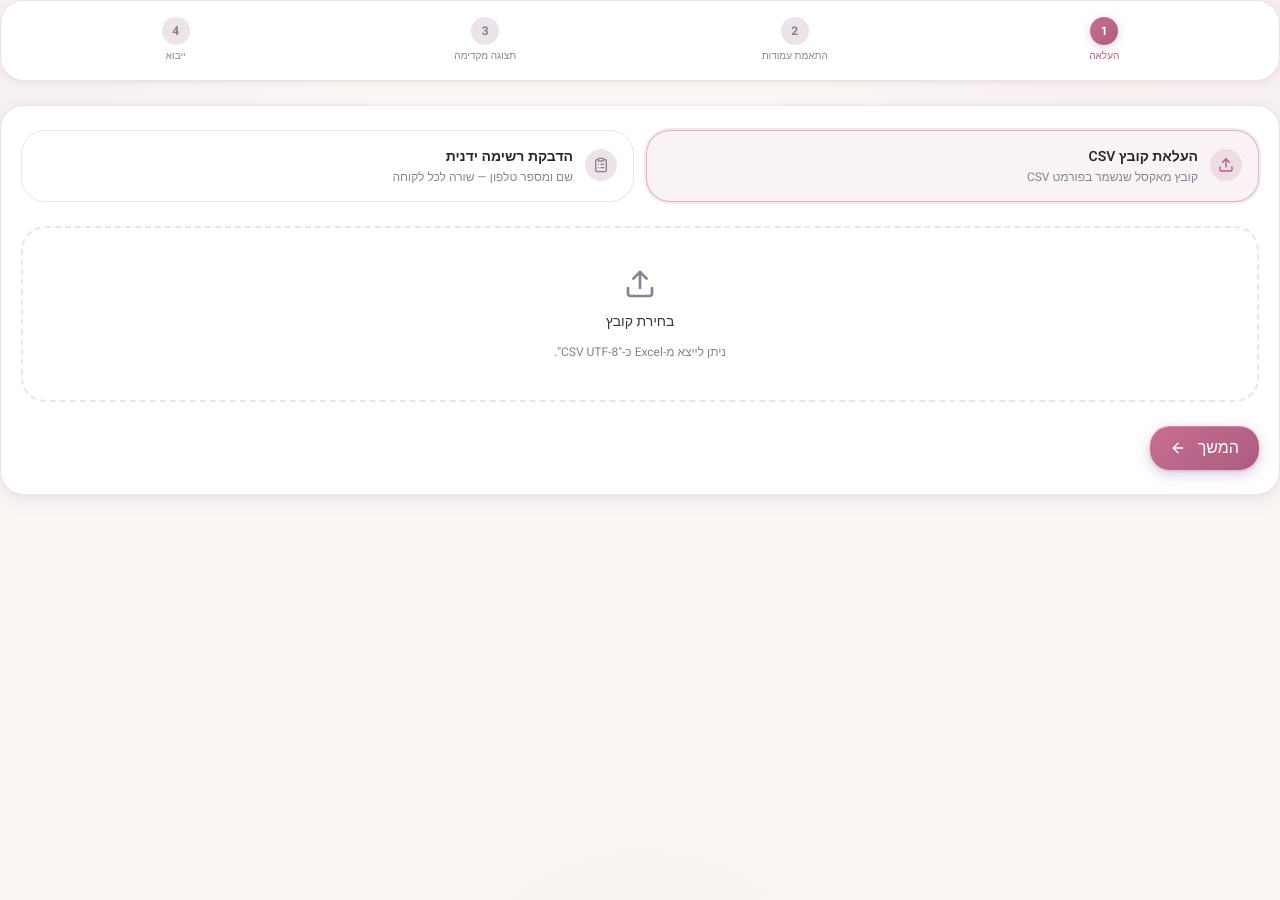
ImportWizard — upload step › shows an error when continuing with empty pasted text
This screenshot has width=1280, height=900.
Click the text "הדבקת רשימה ידנית": (509, 156) [446,146,573,167]
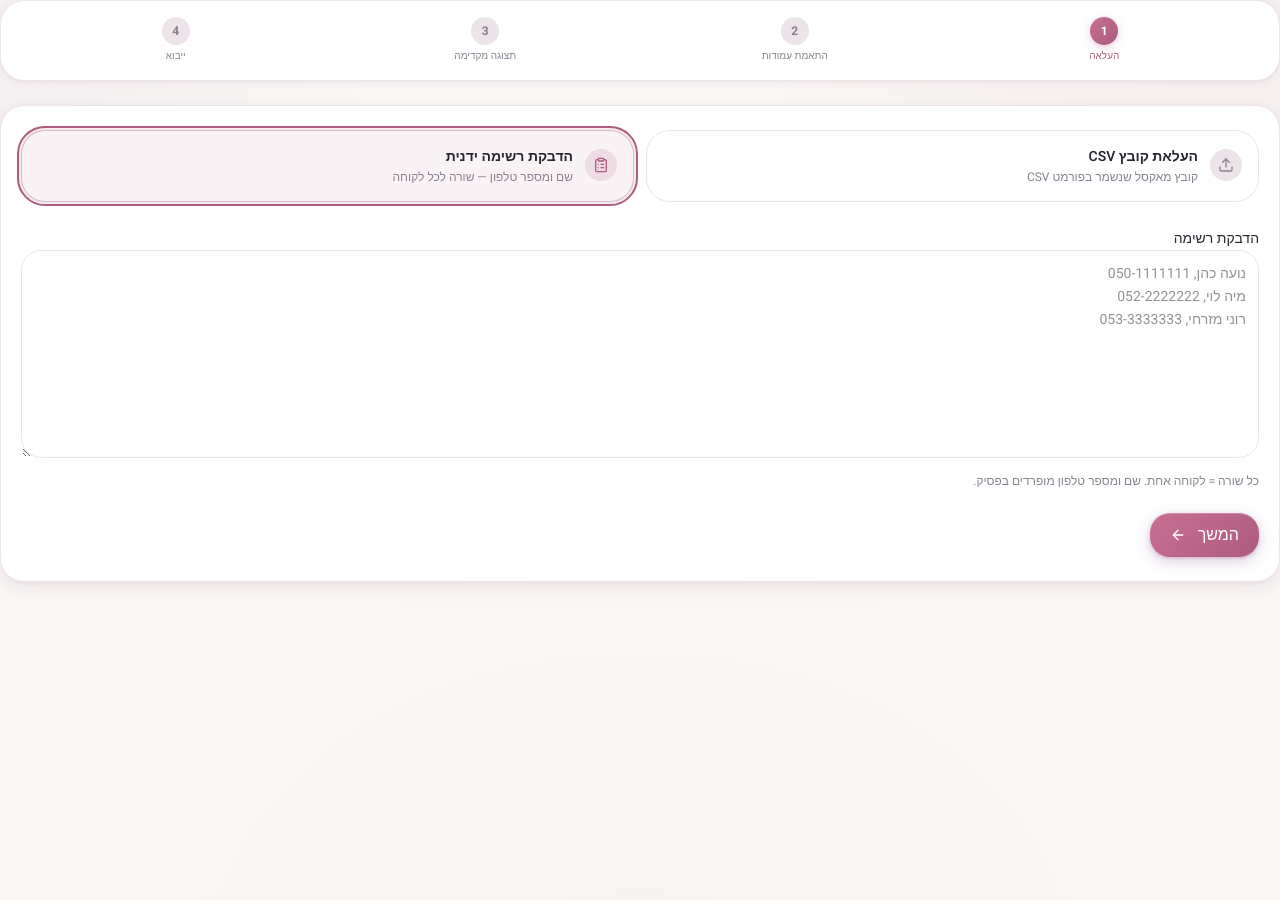
Click the button "המשך": (1204, 535) [1150,513,1259,557]
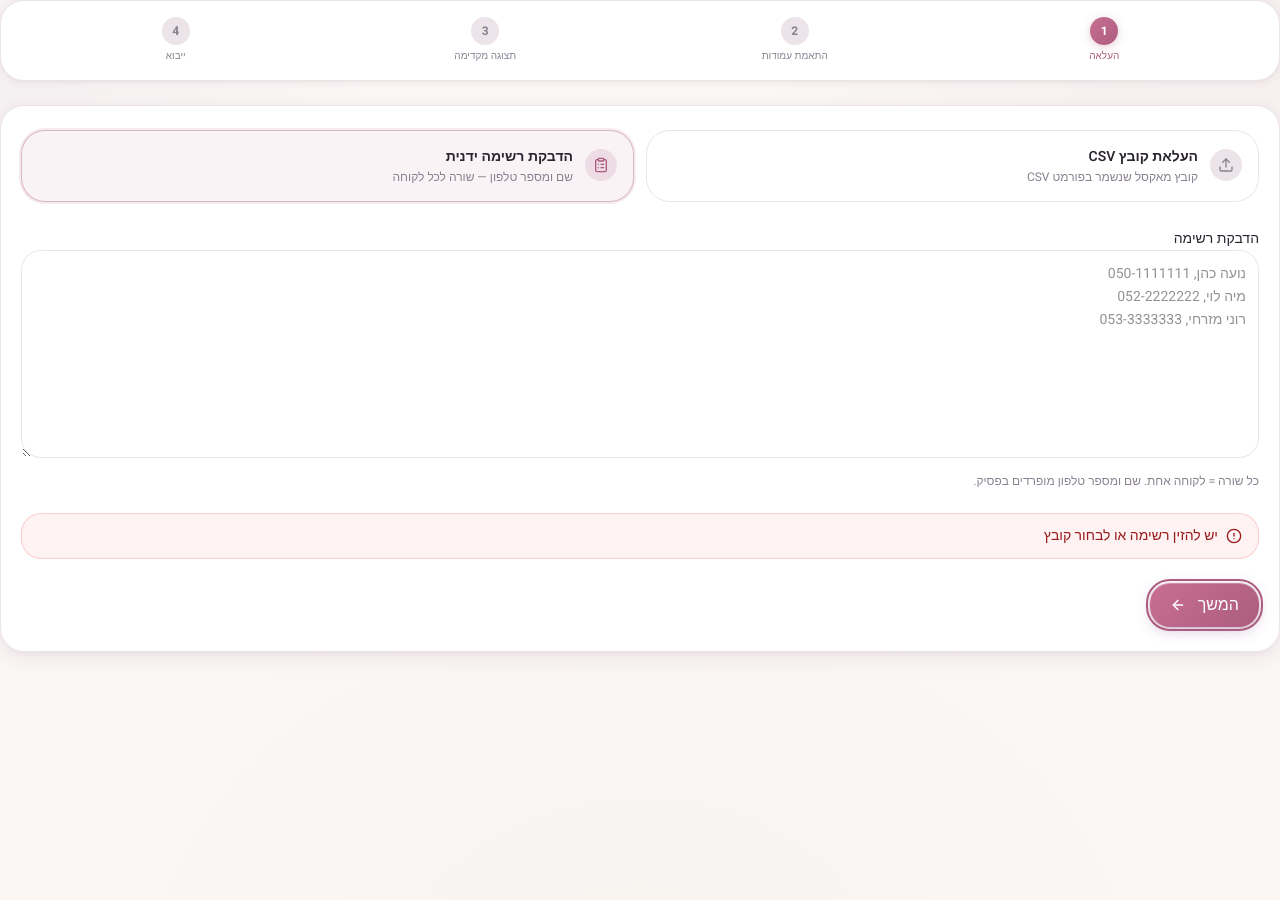
Now the text "יש להזין רשימה או לבחור קובץ" is shown, box [21,513,1259,559]
